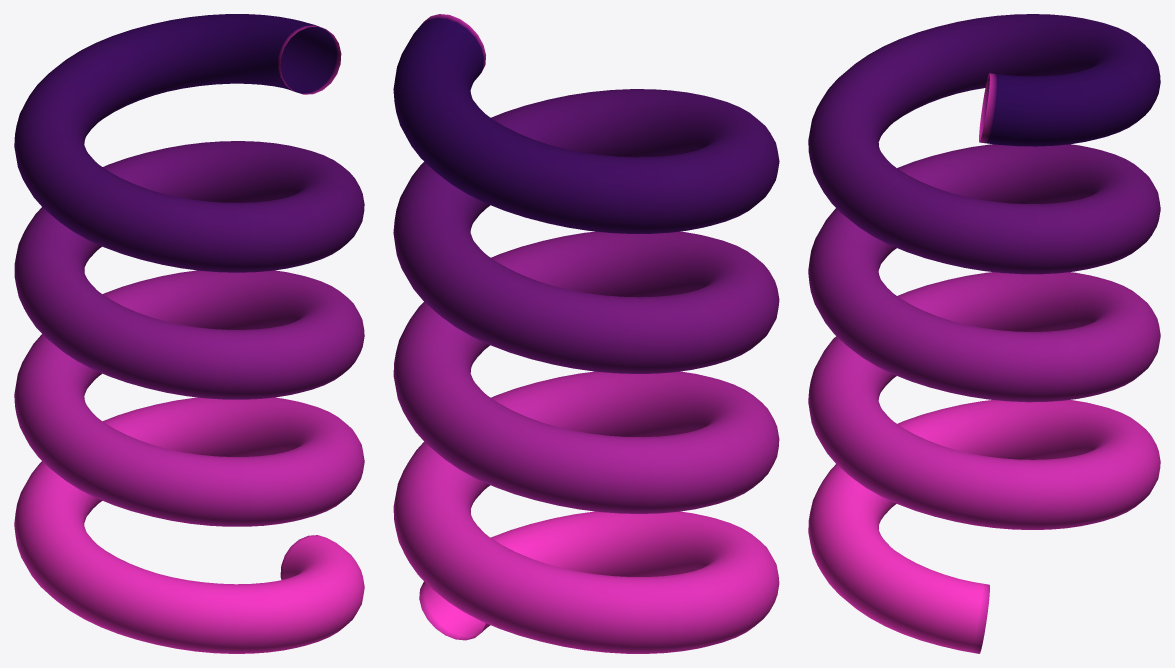
The model's file is helix.obj.
3 views of the same model, side by side, from view 1: azimuth 30°, elevation 25°; view 2: azimuth 150°, elevation 25°; view 3: azimuth 270°, elevation 25° (orthographic). The views are drawn at different scales.
Bounding box in the file's own units: 5 × 8.99 × 5.
Materials: 1 (1 with a texture image).
